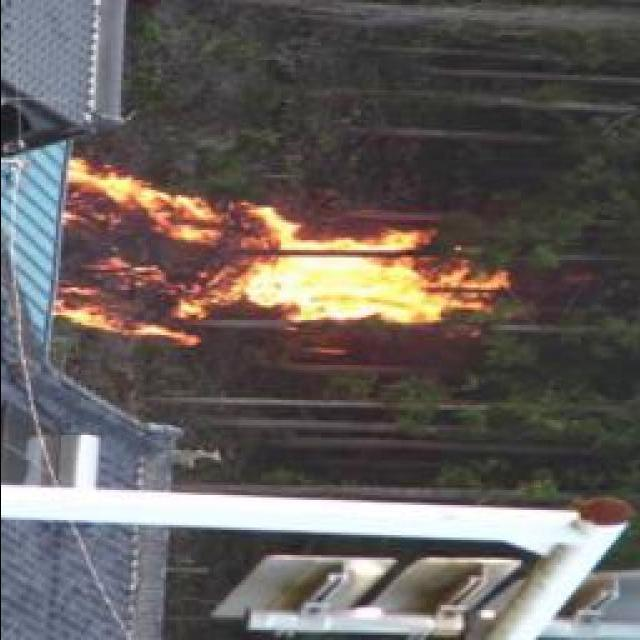Fire: (44, 166, 486, 338)
